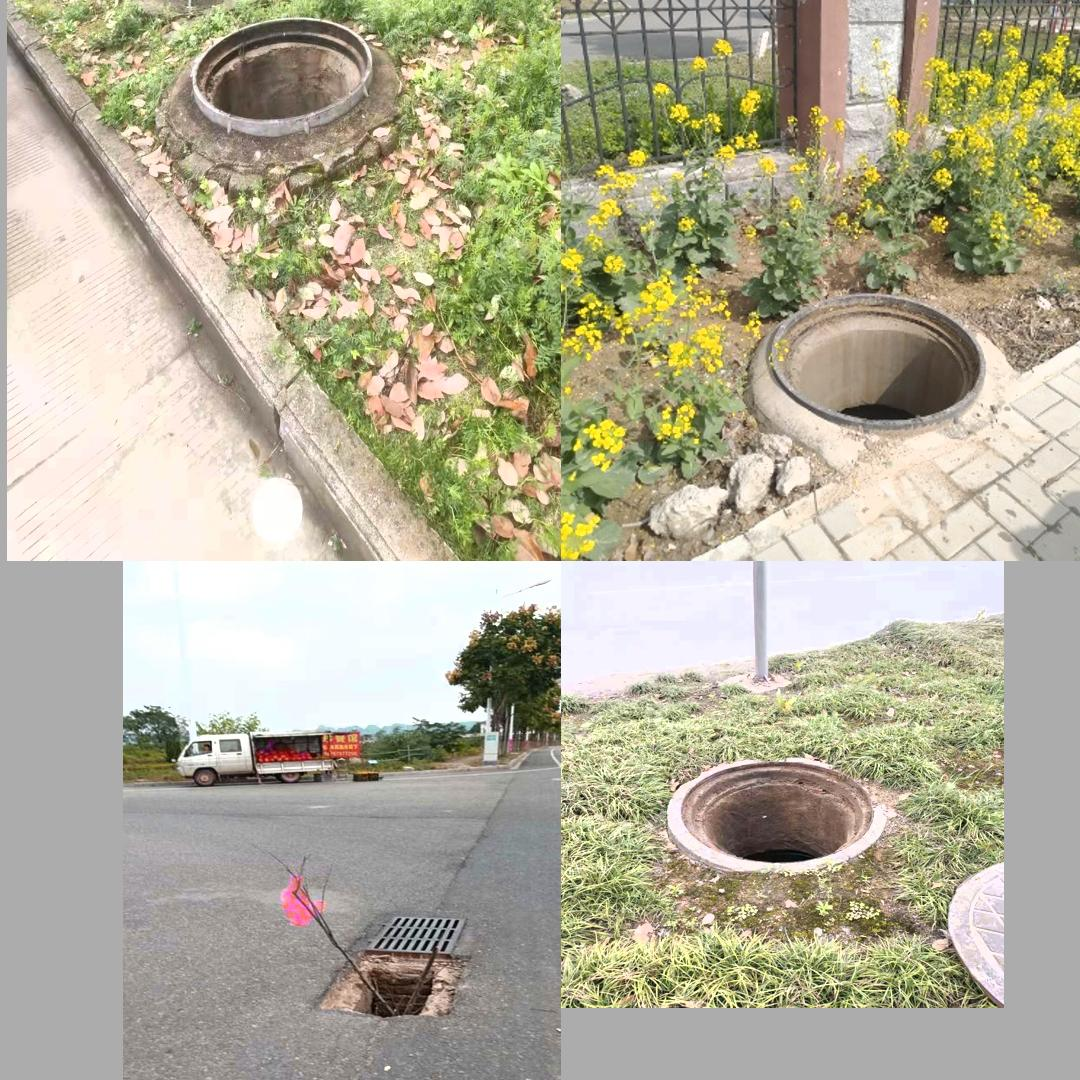good: (122, 0, 284, 10)
lose: (282, 883, 504, 1041), (766, 291, 985, 433), (659, 744, 906, 864), (188, 14, 373, 137)
